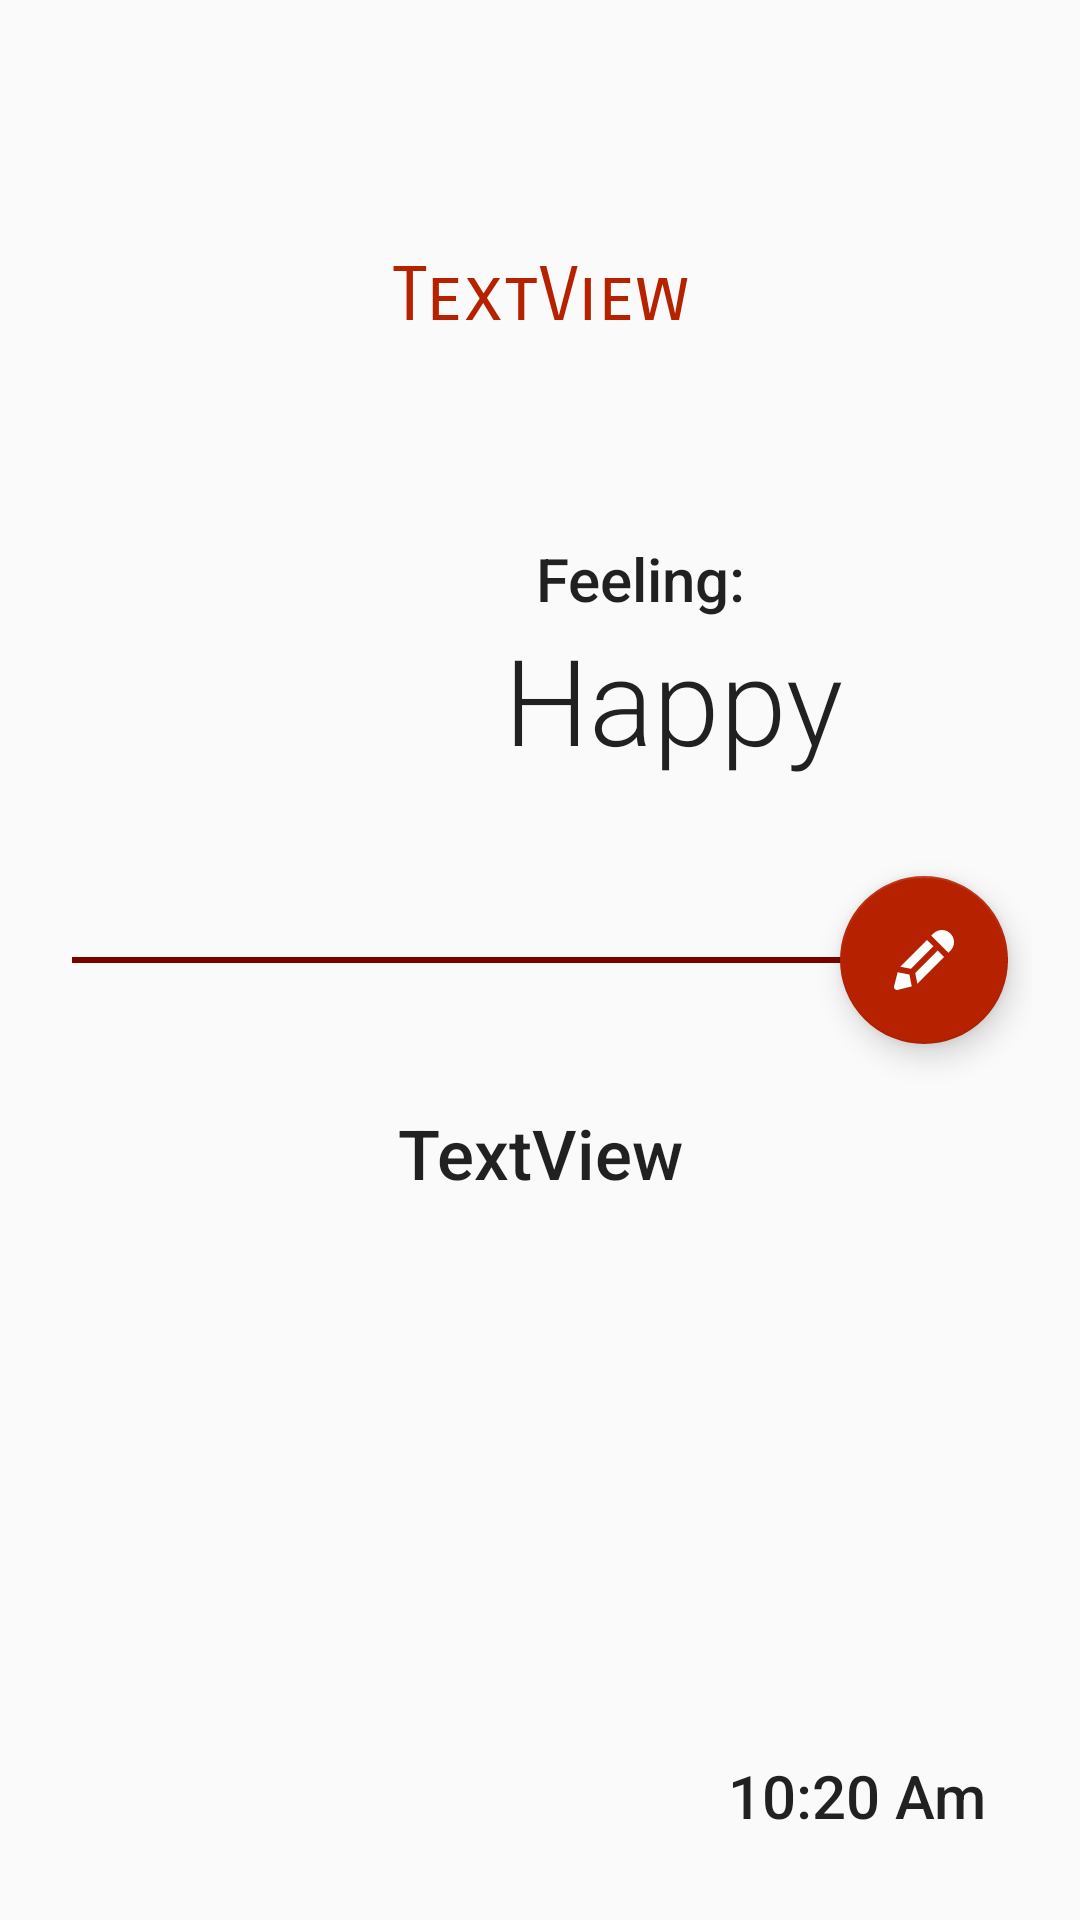

Icons on this 1080 × 1920 Android screen, each with the point to tap as point (x, y):
pencil: point (924, 960)
